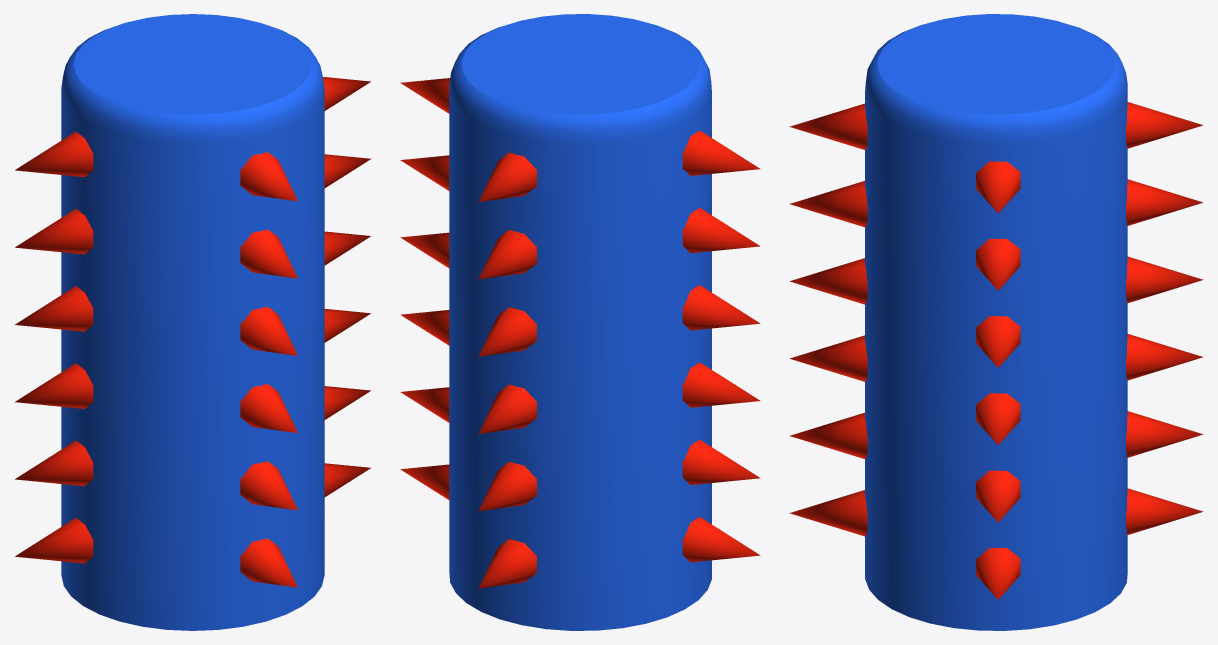
File: cylender obstacle v1.1.fbx
3 views of the same model, side by side, from view 1: azimuth 30°, elevation 25°; view 2: azimuth 150°, elevation 25°; view 3: azimuth 270°, elevation 25° (orthographic).
Parts seen in each view (by area): view 1: CylinderObstacle; view 2: CylinderObstacle; view 3: CylinderObstacle.
Part boxes in pixels (x1,y1,x2,y2): CylinderObstacle: (14, 14, 371, 630); CylinderObstacle: (400, 14, 760, 630); CylinderObstacle: (789, 14, 1203, 630).
Size of the model in its own units: 201 by 273 by 201.
